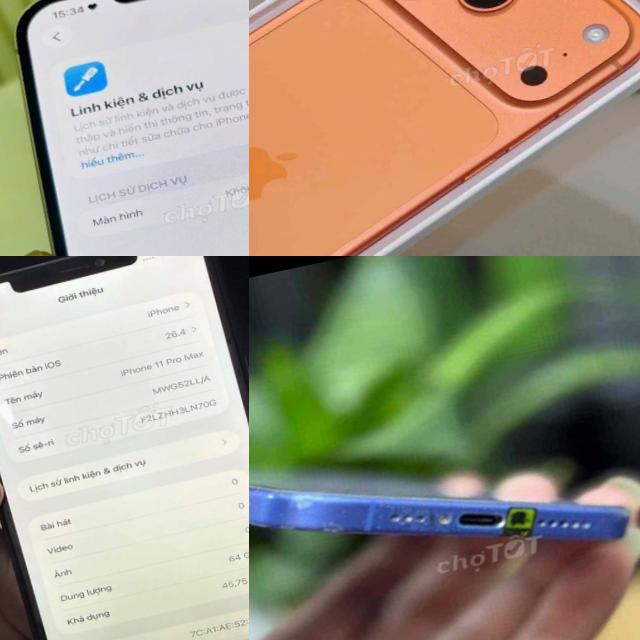gen_11: (0, 256, 249, 640)
gen_16: (249, 479, 629, 540)
gen_17: (249, 0, 640, 256), (249, 0, 400, 165)
scratch: (367, 477, 478, 558), (264, 483, 332, 534), (596, 505, 630, 541), (249, 493, 274, 530), (318, 520, 347, 538), (340, 502, 354, 518)
